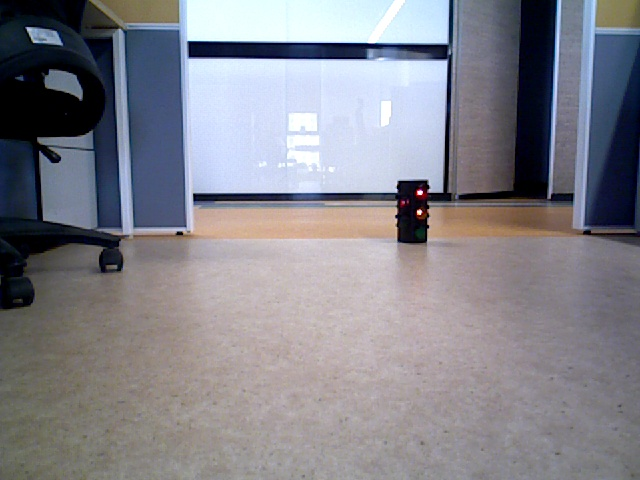red: (397, 181, 426, 238)
